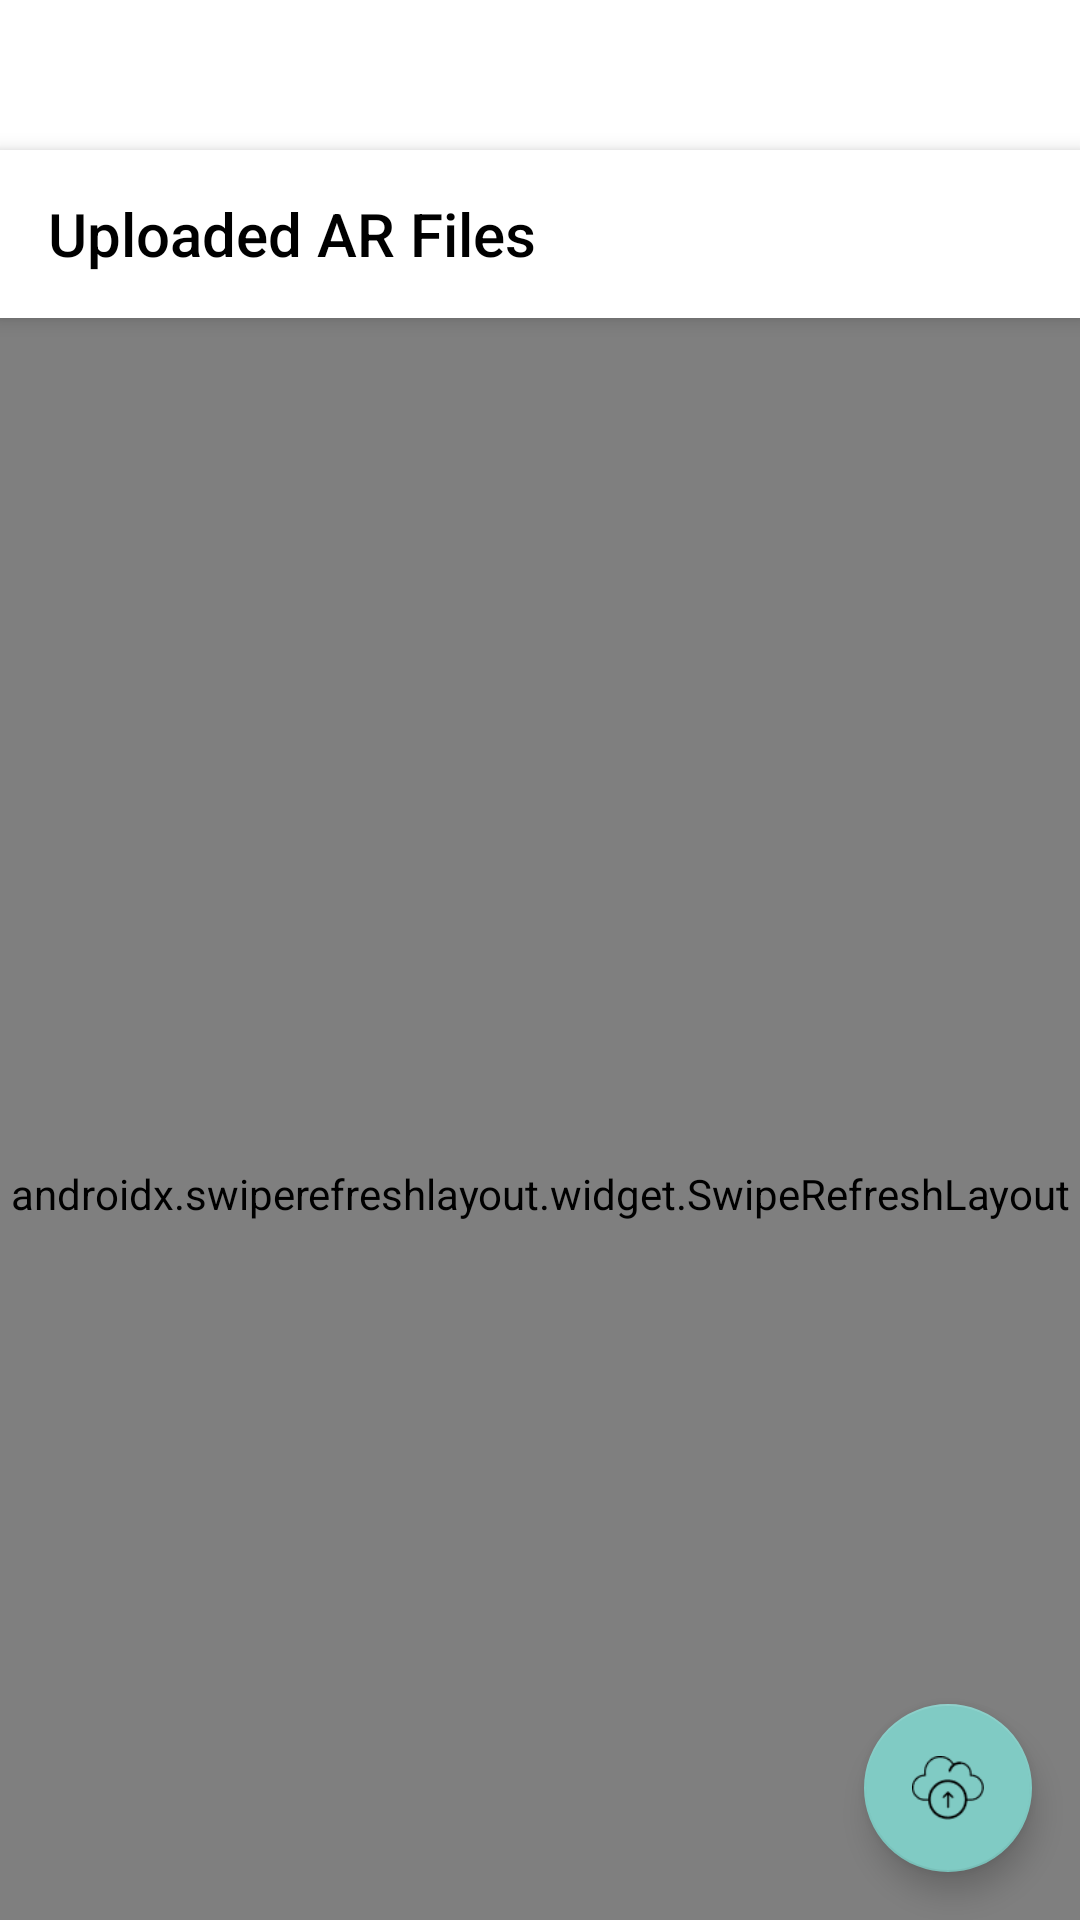

Icon bounding boxes for this 1080px×1920px phone screenshot, format bbox=(x1, y1, x2, y2):
uploadicon: bbox=(864, 1704, 1032, 1872)
